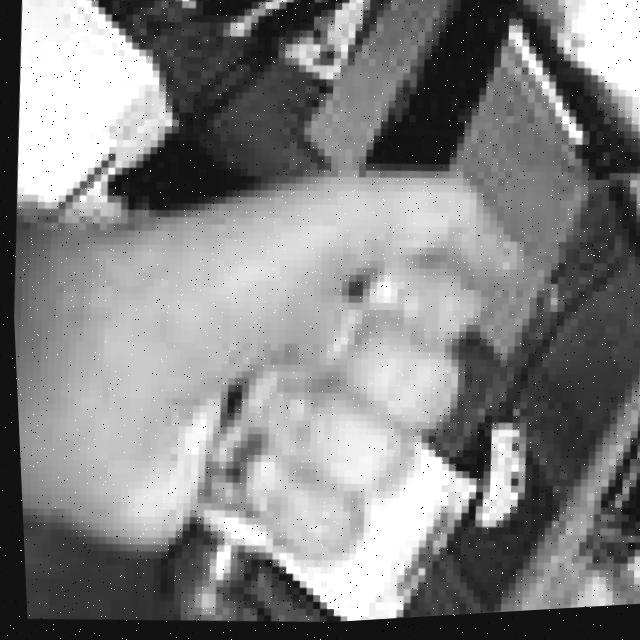knife: (358, 0, 550, 179)
